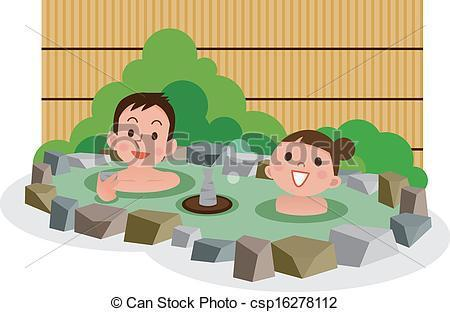person: (96, 93, 183, 204), (261, 125, 358, 215)
